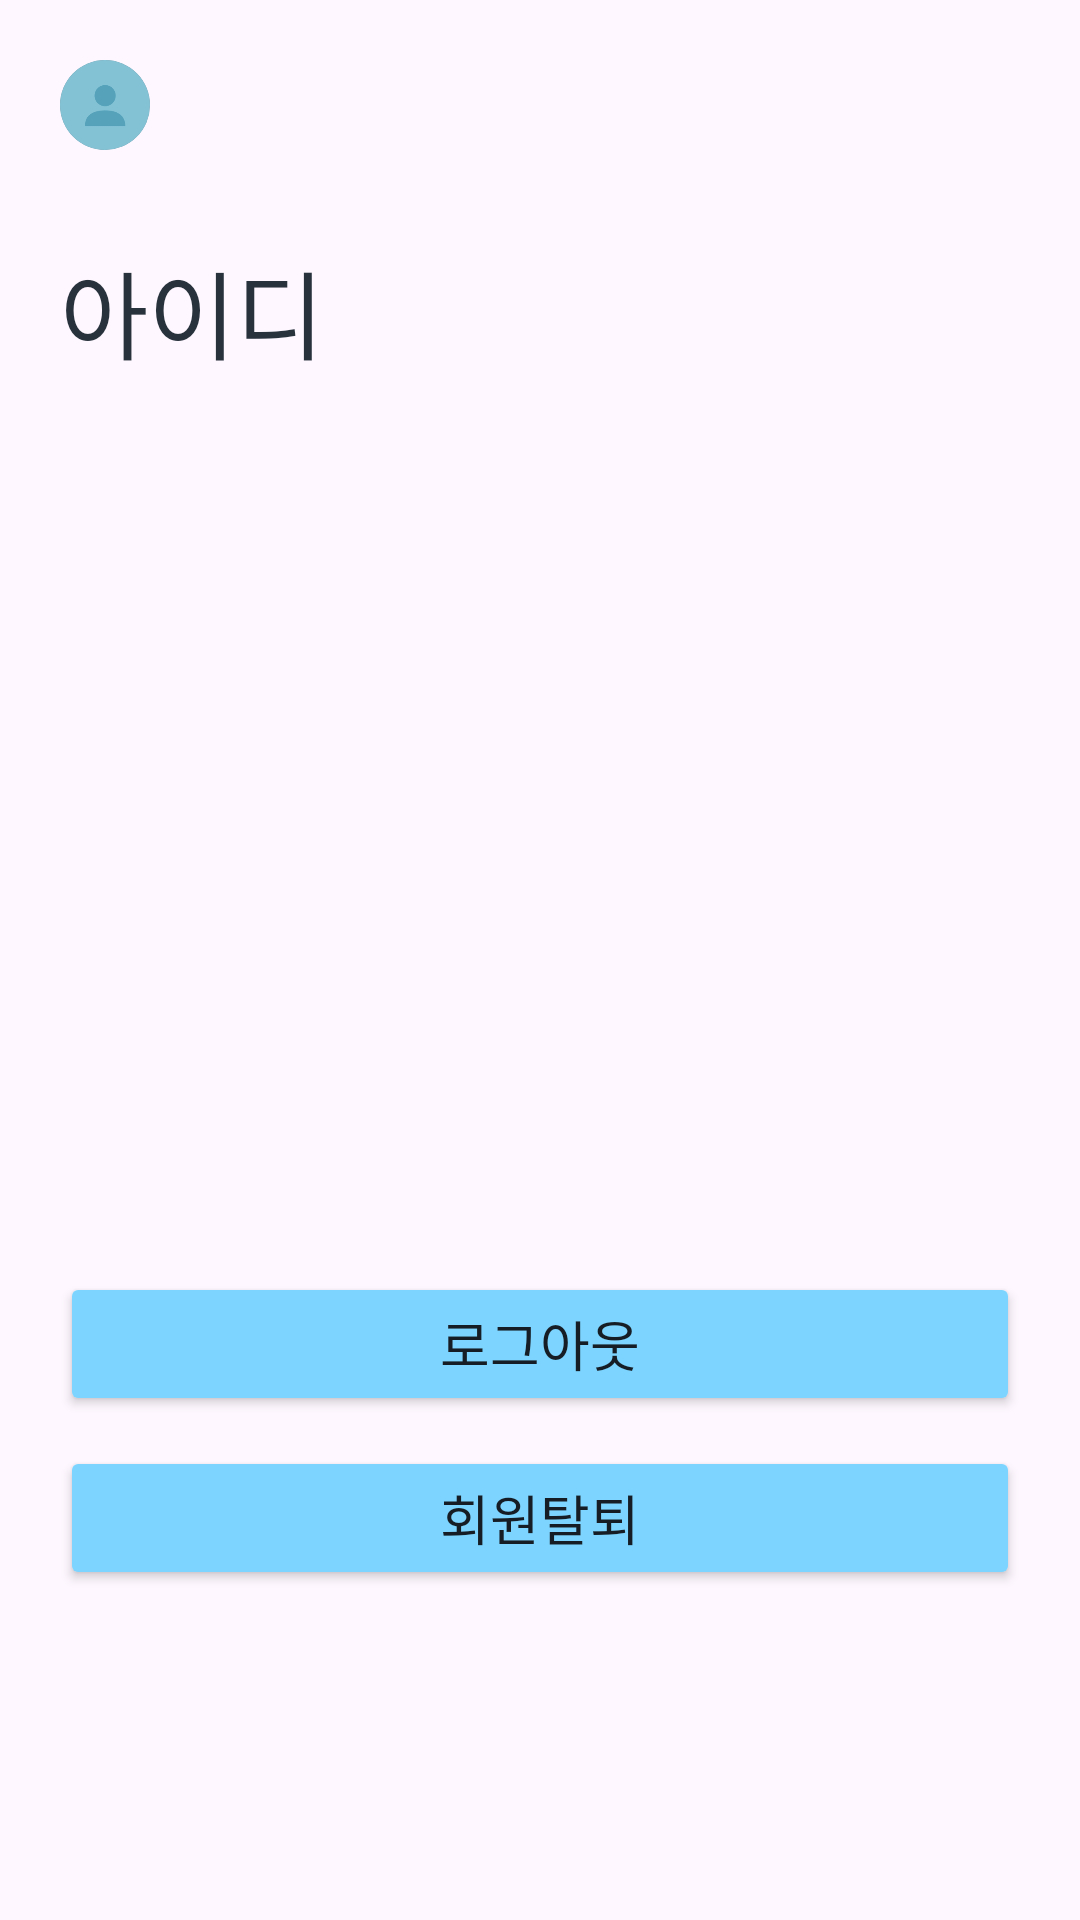

Named icons in this screenshot (1080×1920) and their centers, (x,y):
profile: (105,105)
